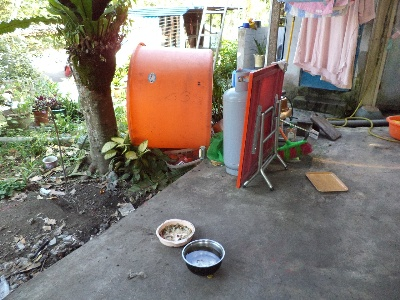bucket: (125, 40, 217, 156)
plate: (180, 237, 226, 275), (154, 217, 196, 248), (305, 169, 349, 196), (41, 154, 59, 170)
